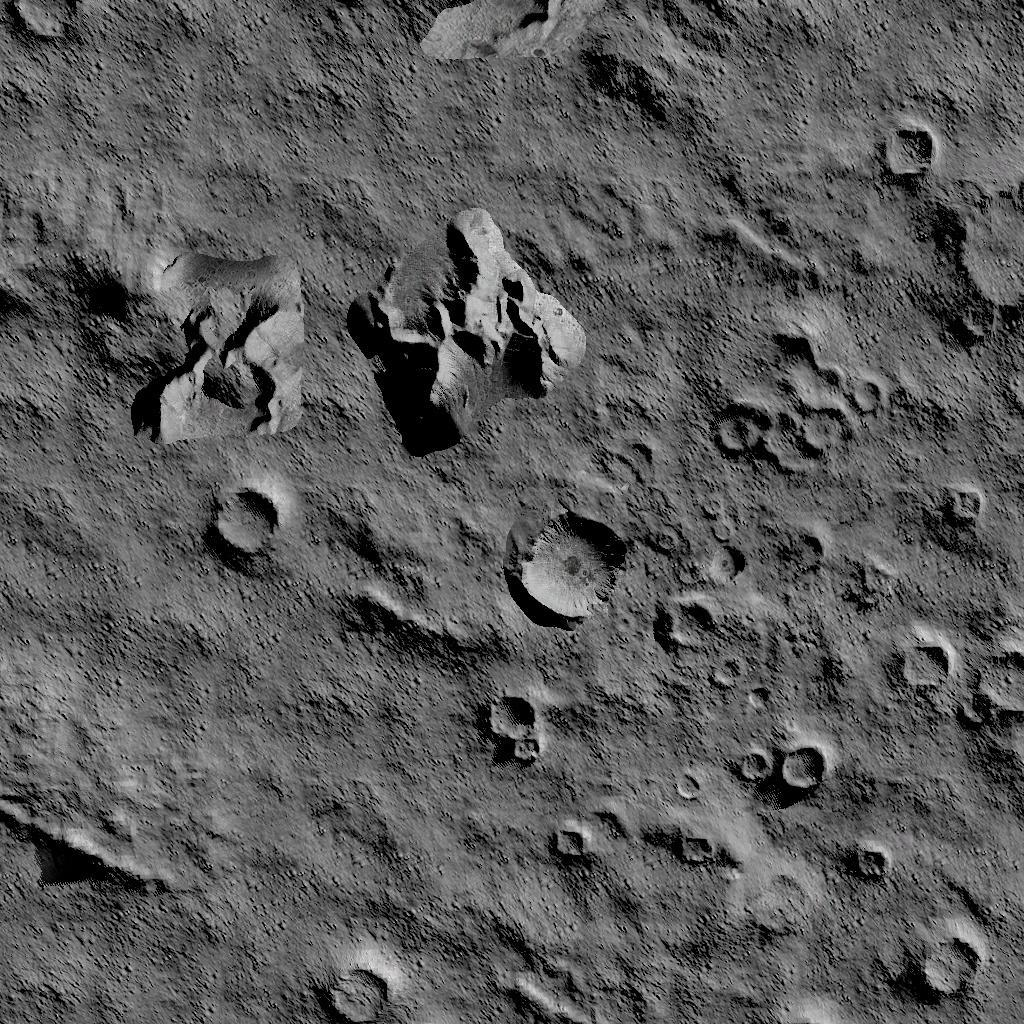Boulders: (351, 208, 588, 452), (131, 250, 307, 446), (387, 0, 610, 67)
Crater: (717, 332, 885, 474), (511, 512, 628, 625), (947, 182, 1024, 331), (205, 484, 283, 560), (966, 646, 1024, 730), (483, 692, 548, 766), (734, 746, 832, 794), (916, 935, 986, 1001), (323, 966, 397, 1024), (876, 124, 940, 182), (11, 0, 85, 46), (898, 643, 957, 697), (656, 598, 717, 648), (941, 484, 993, 530), (706, 546, 752, 586), (549, 826, 592, 868), (851, 846, 896, 884), (675, 834, 720, 870), (673, 766, 706, 802), (717, 658, 743, 690)
Plan surface: (211, 652, 479, 954), (3, 454, 200, 774), (91, 0, 373, 192)
